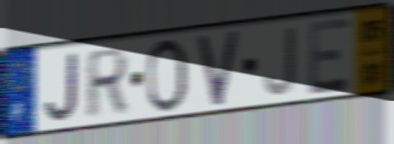E: (307, 14, 353, 98)
J: (42, 49, 80, 124), (262, 24, 298, 98)
O: (145, 36, 190, 116)
R: (83, 45, 132, 121)
V: (195, 28, 242, 110)
